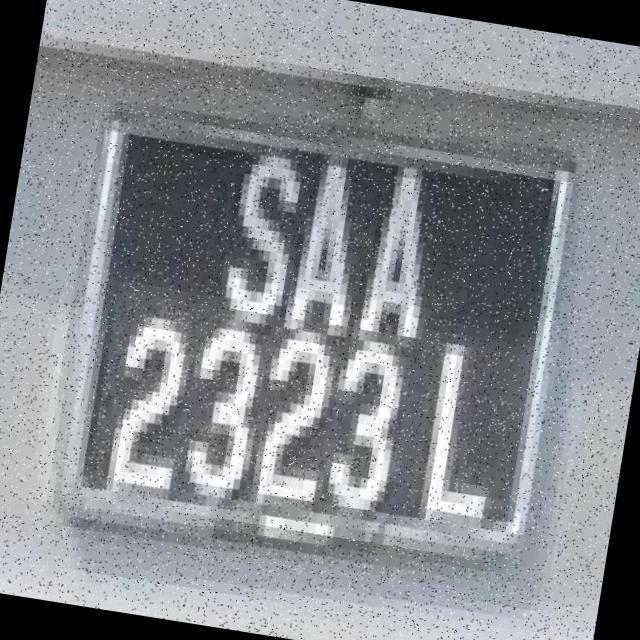License Plate: (43, 90, 593, 596)
